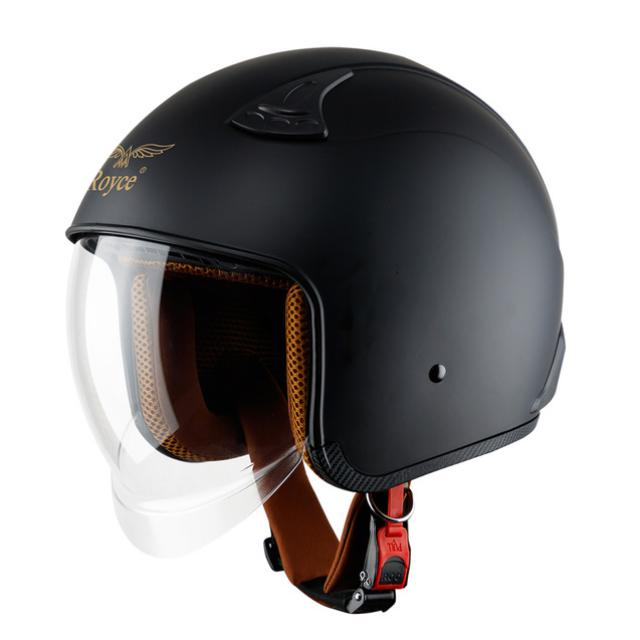Helmet: (59, 42, 572, 613)
